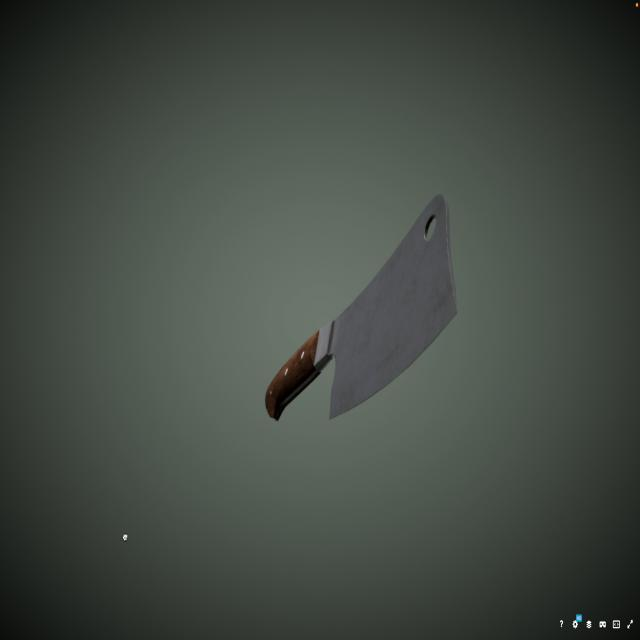cleaver: (260, 196, 453, 451)
